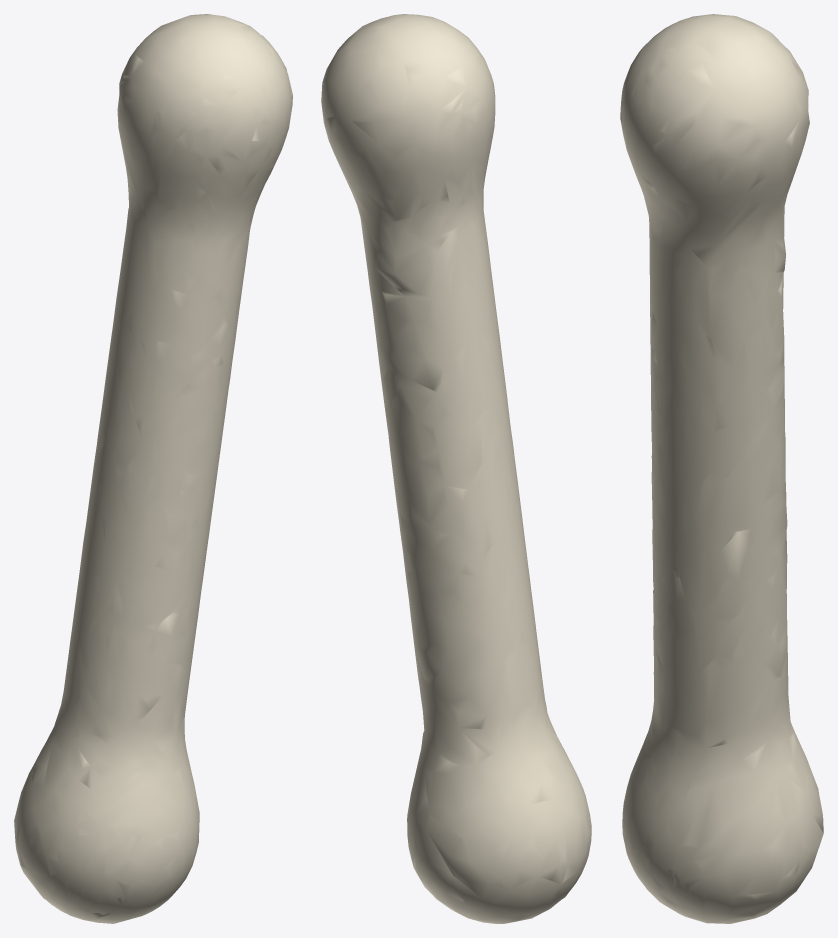
The model's file is radius_l.glb.
The picture shows the model from 3 angles, left to right: view 1: azimuth 30°, elevation 25°; view 2: azimuth 150°, elevation 25°; view 3: azimuth 270°, elevation 25°; orthographic projection. The views are drawn at different scales.
Visible parts, largest first — view 1: geometry_0; view 2: geometry_0; view 3: geometry_0.
Boxes of the visible parts, box(x1,y1,x2,y2) form: geometry_0: box(14, 14, 292, 923); geometry_0: box(321, 14, 591, 923); geometry_0: box(620, 14, 823, 923).
Size of the model in its own units: 0.2112 by 0.7015 by 0.1374.
